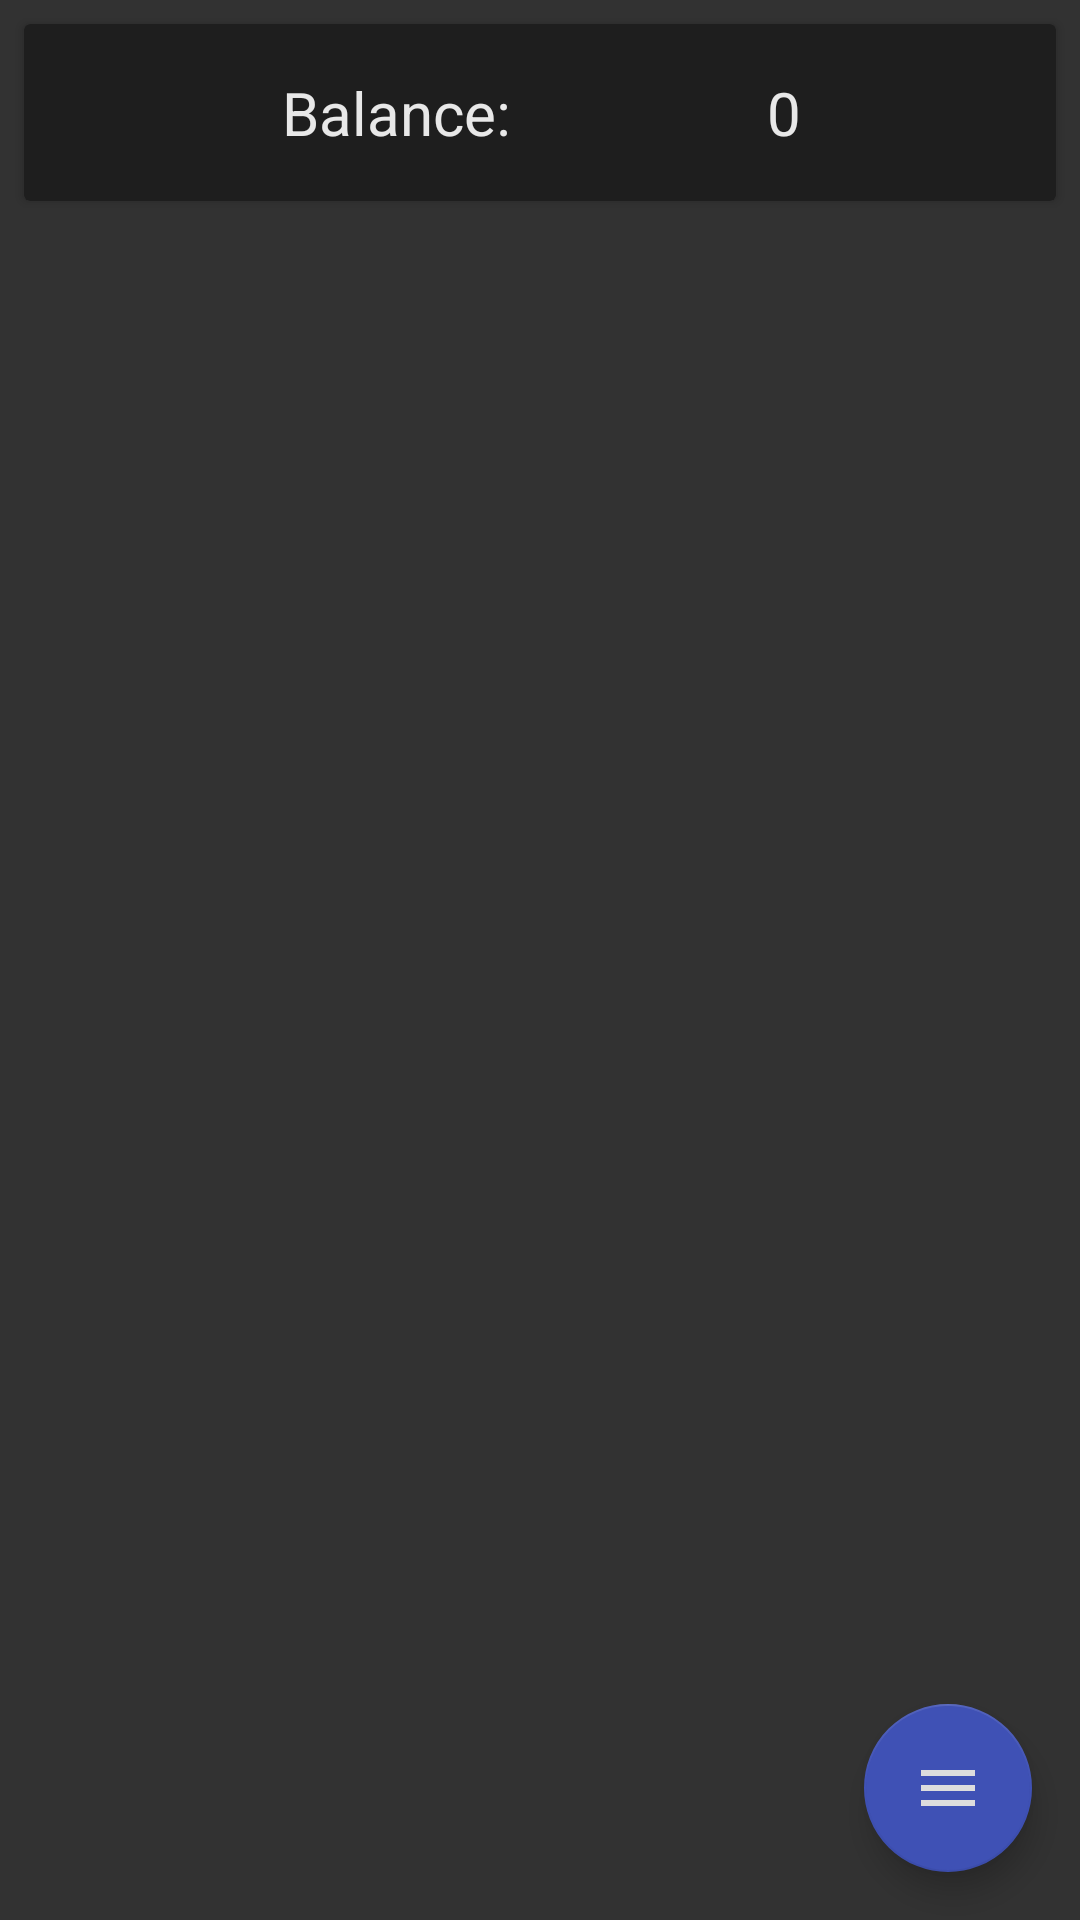

Icons on this 1080 × 1920 Android screen, each with its box as (x1=x1, y1=y1, x2=x2, y2=y2):
menu: (x1=864, y1=1704, x2=1032, y2=1872)
